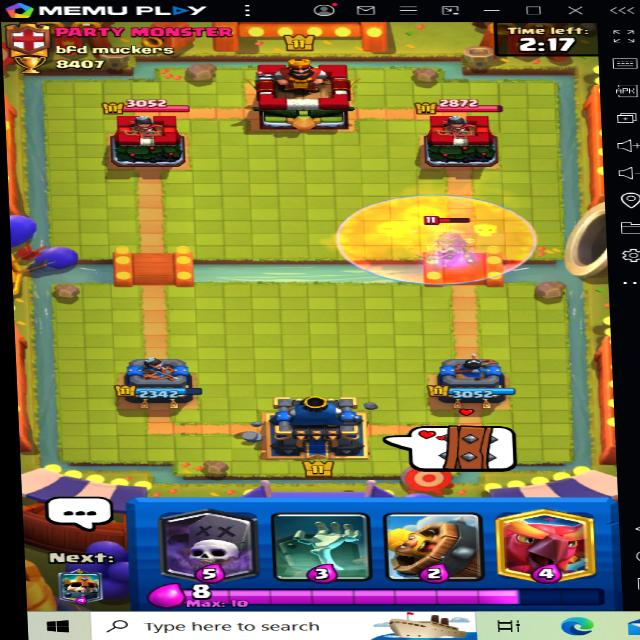Queen: (419, 210, 487, 268)
Queenability: (425, 212, 489, 270)
